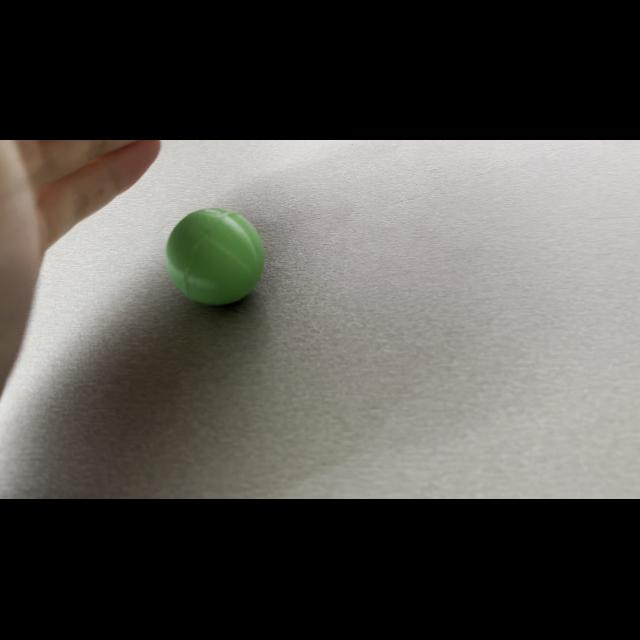objects: (160, 198, 274, 310)
